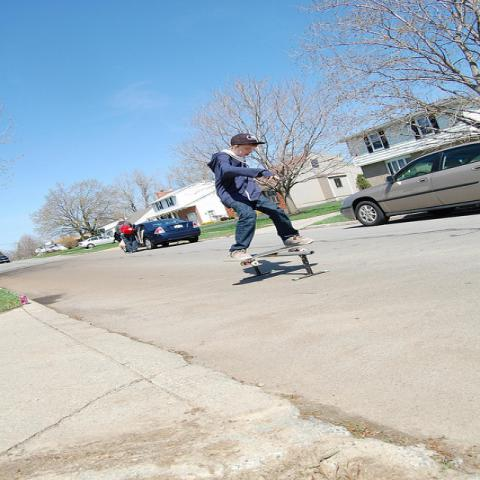car: (339, 140, 480, 227), (121, 218, 201, 252), (77, 235, 120, 249), (0, 255, 12, 265), (43, 250, 62, 254)
